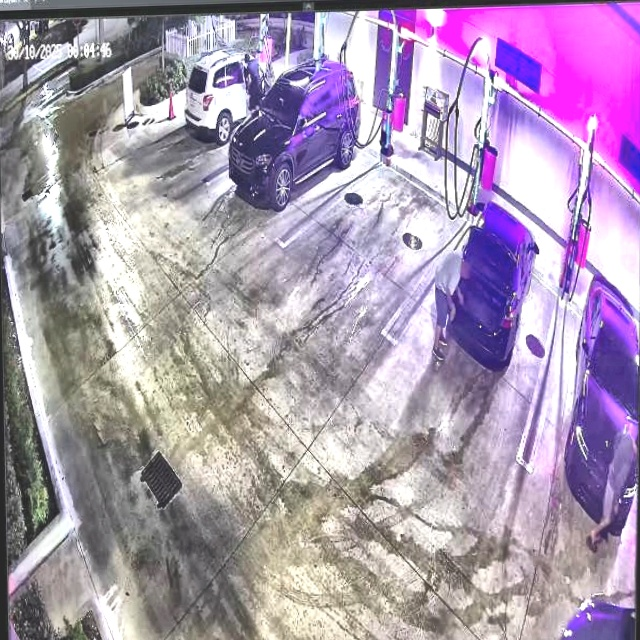Car: (226, 60, 361, 206), (453, 195, 539, 370)
